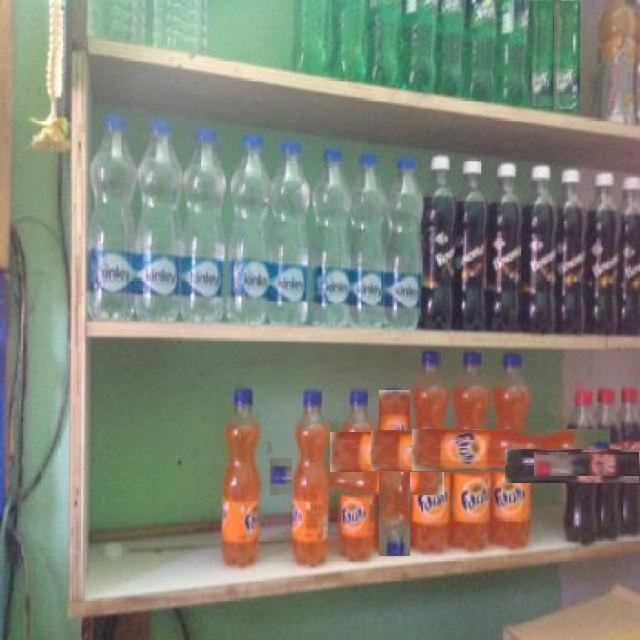Drinks: (412, 429, 610, 471), (370, 431, 568, 471), (330, 433, 531, 472), (220, 388, 260, 568), (292, 389, 329, 569), (270, 457, 444, 495), (378, 389, 410, 556), (504, 450, 640, 483), (498, 0, 529, 104), (466, 0, 497, 95), (553, 0, 580, 109), (439, 1, 466, 96), (534, 452, 640, 476), (529, 0, 553, 106)
